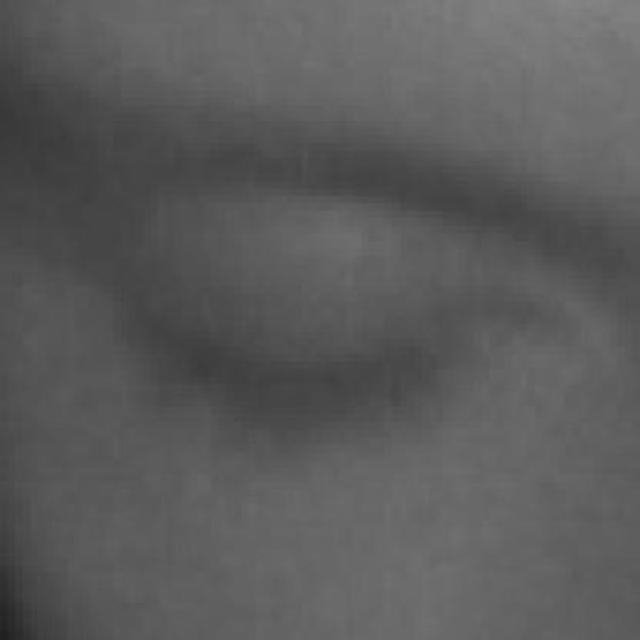drowsy: (93, 186, 464, 529)
